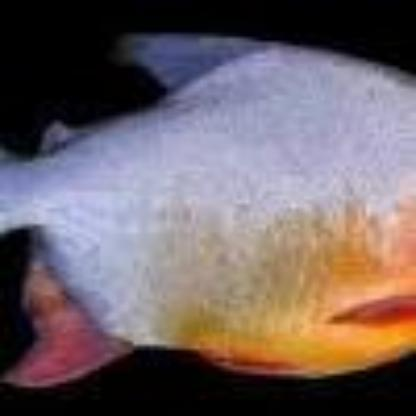ikan-pacu: (0, 33, 410, 386)
